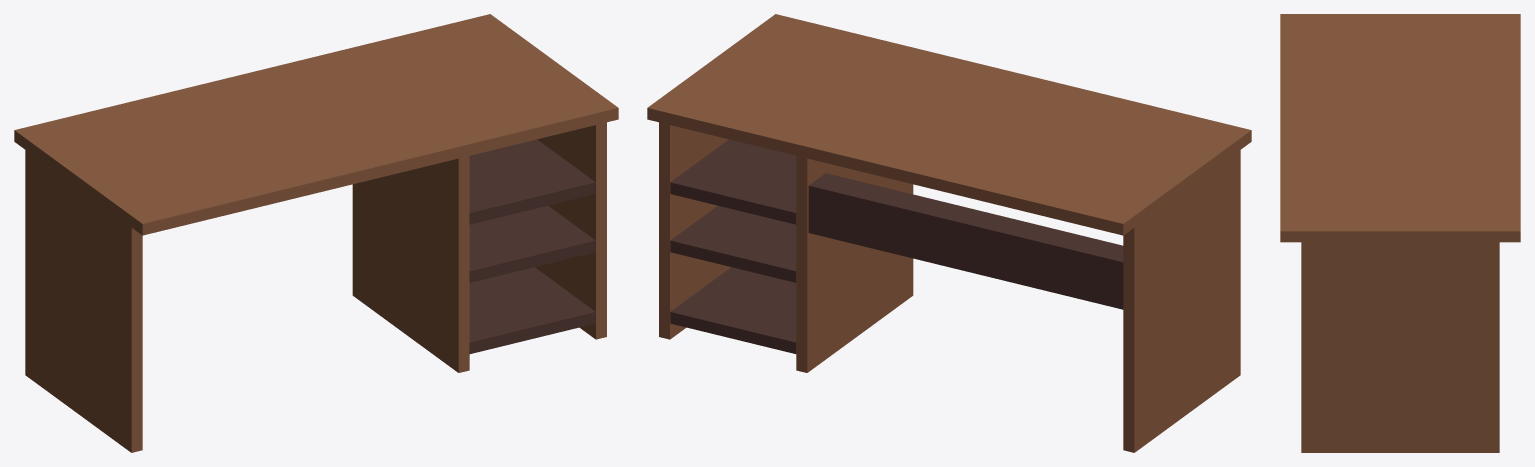
File: Prop_Desk_03.fbx
The picture shows the model from 3 angles, left to right: view 1: azimuth 30°, elevation 25°; view 2: azimuth 150°, elevation 25°; view 3: azimuth 270°, elevation 25°; orthographic projection. The views are drawn at different scales.
Visible parts, largest first — view 1: Prop_Desk_03; view 2: Prop_Desk_03; view 3: Prop_Desk_03.
Boxes of the visible parts, x1,y1,x2,y2 form: Prop_Desk_03: (14, 14, 618, 452); Prop_Desk_03: (647, 14, 1251, 452); Prop_Desk_03: (1280, 14, 1520, 452).
Size of the model in its own units: 150 by 71.38 by 70.
